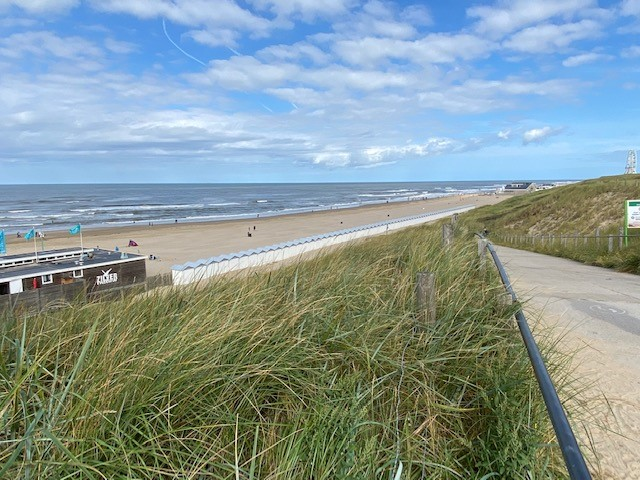pad: (473, 228, 640, 460)
